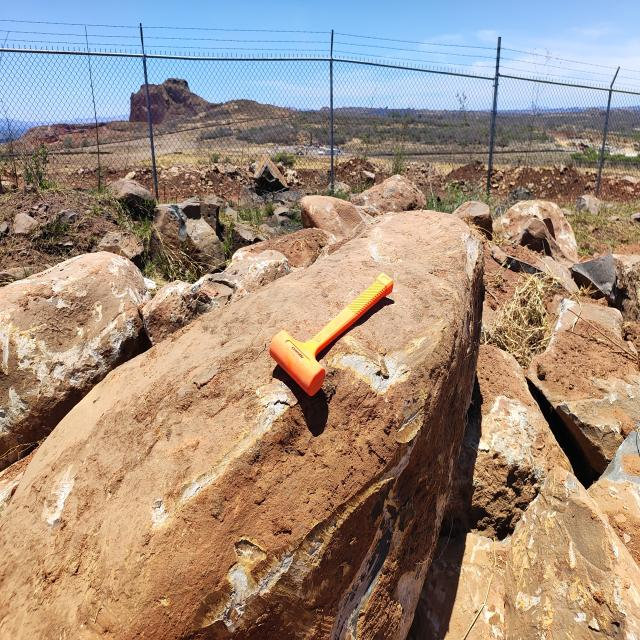Orange_hammer: (268, 271, 394, 397)
